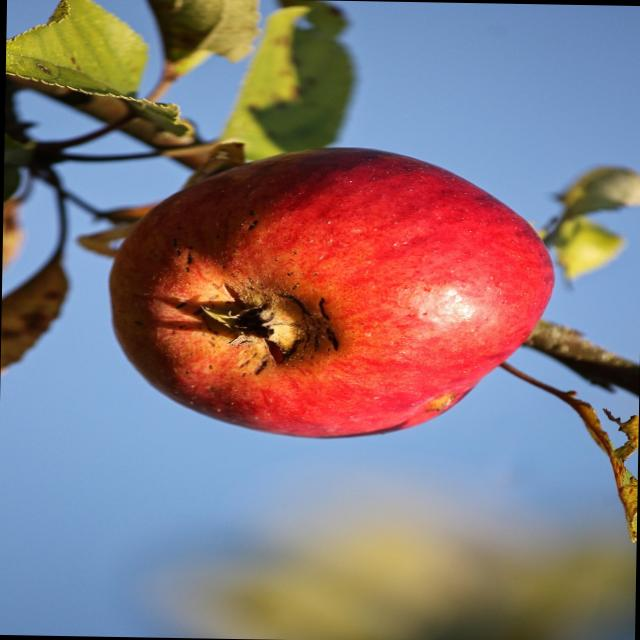apple_fruit: (97, 121, 571, 442)
